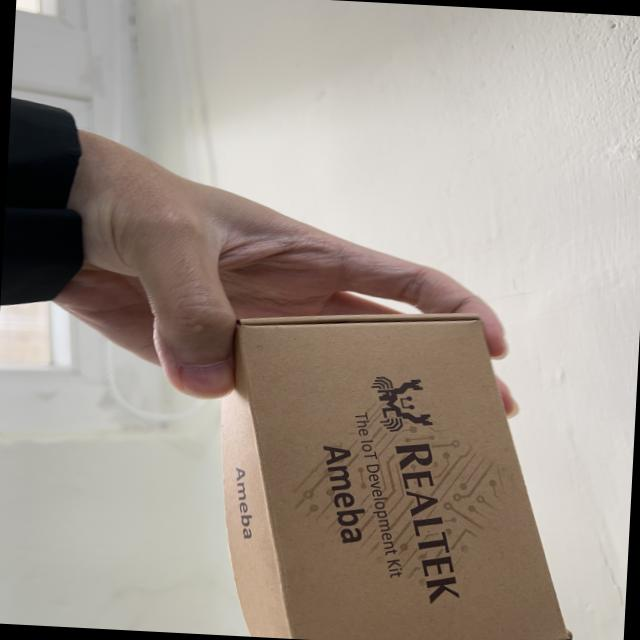box: (150, 268, 640, 640)
